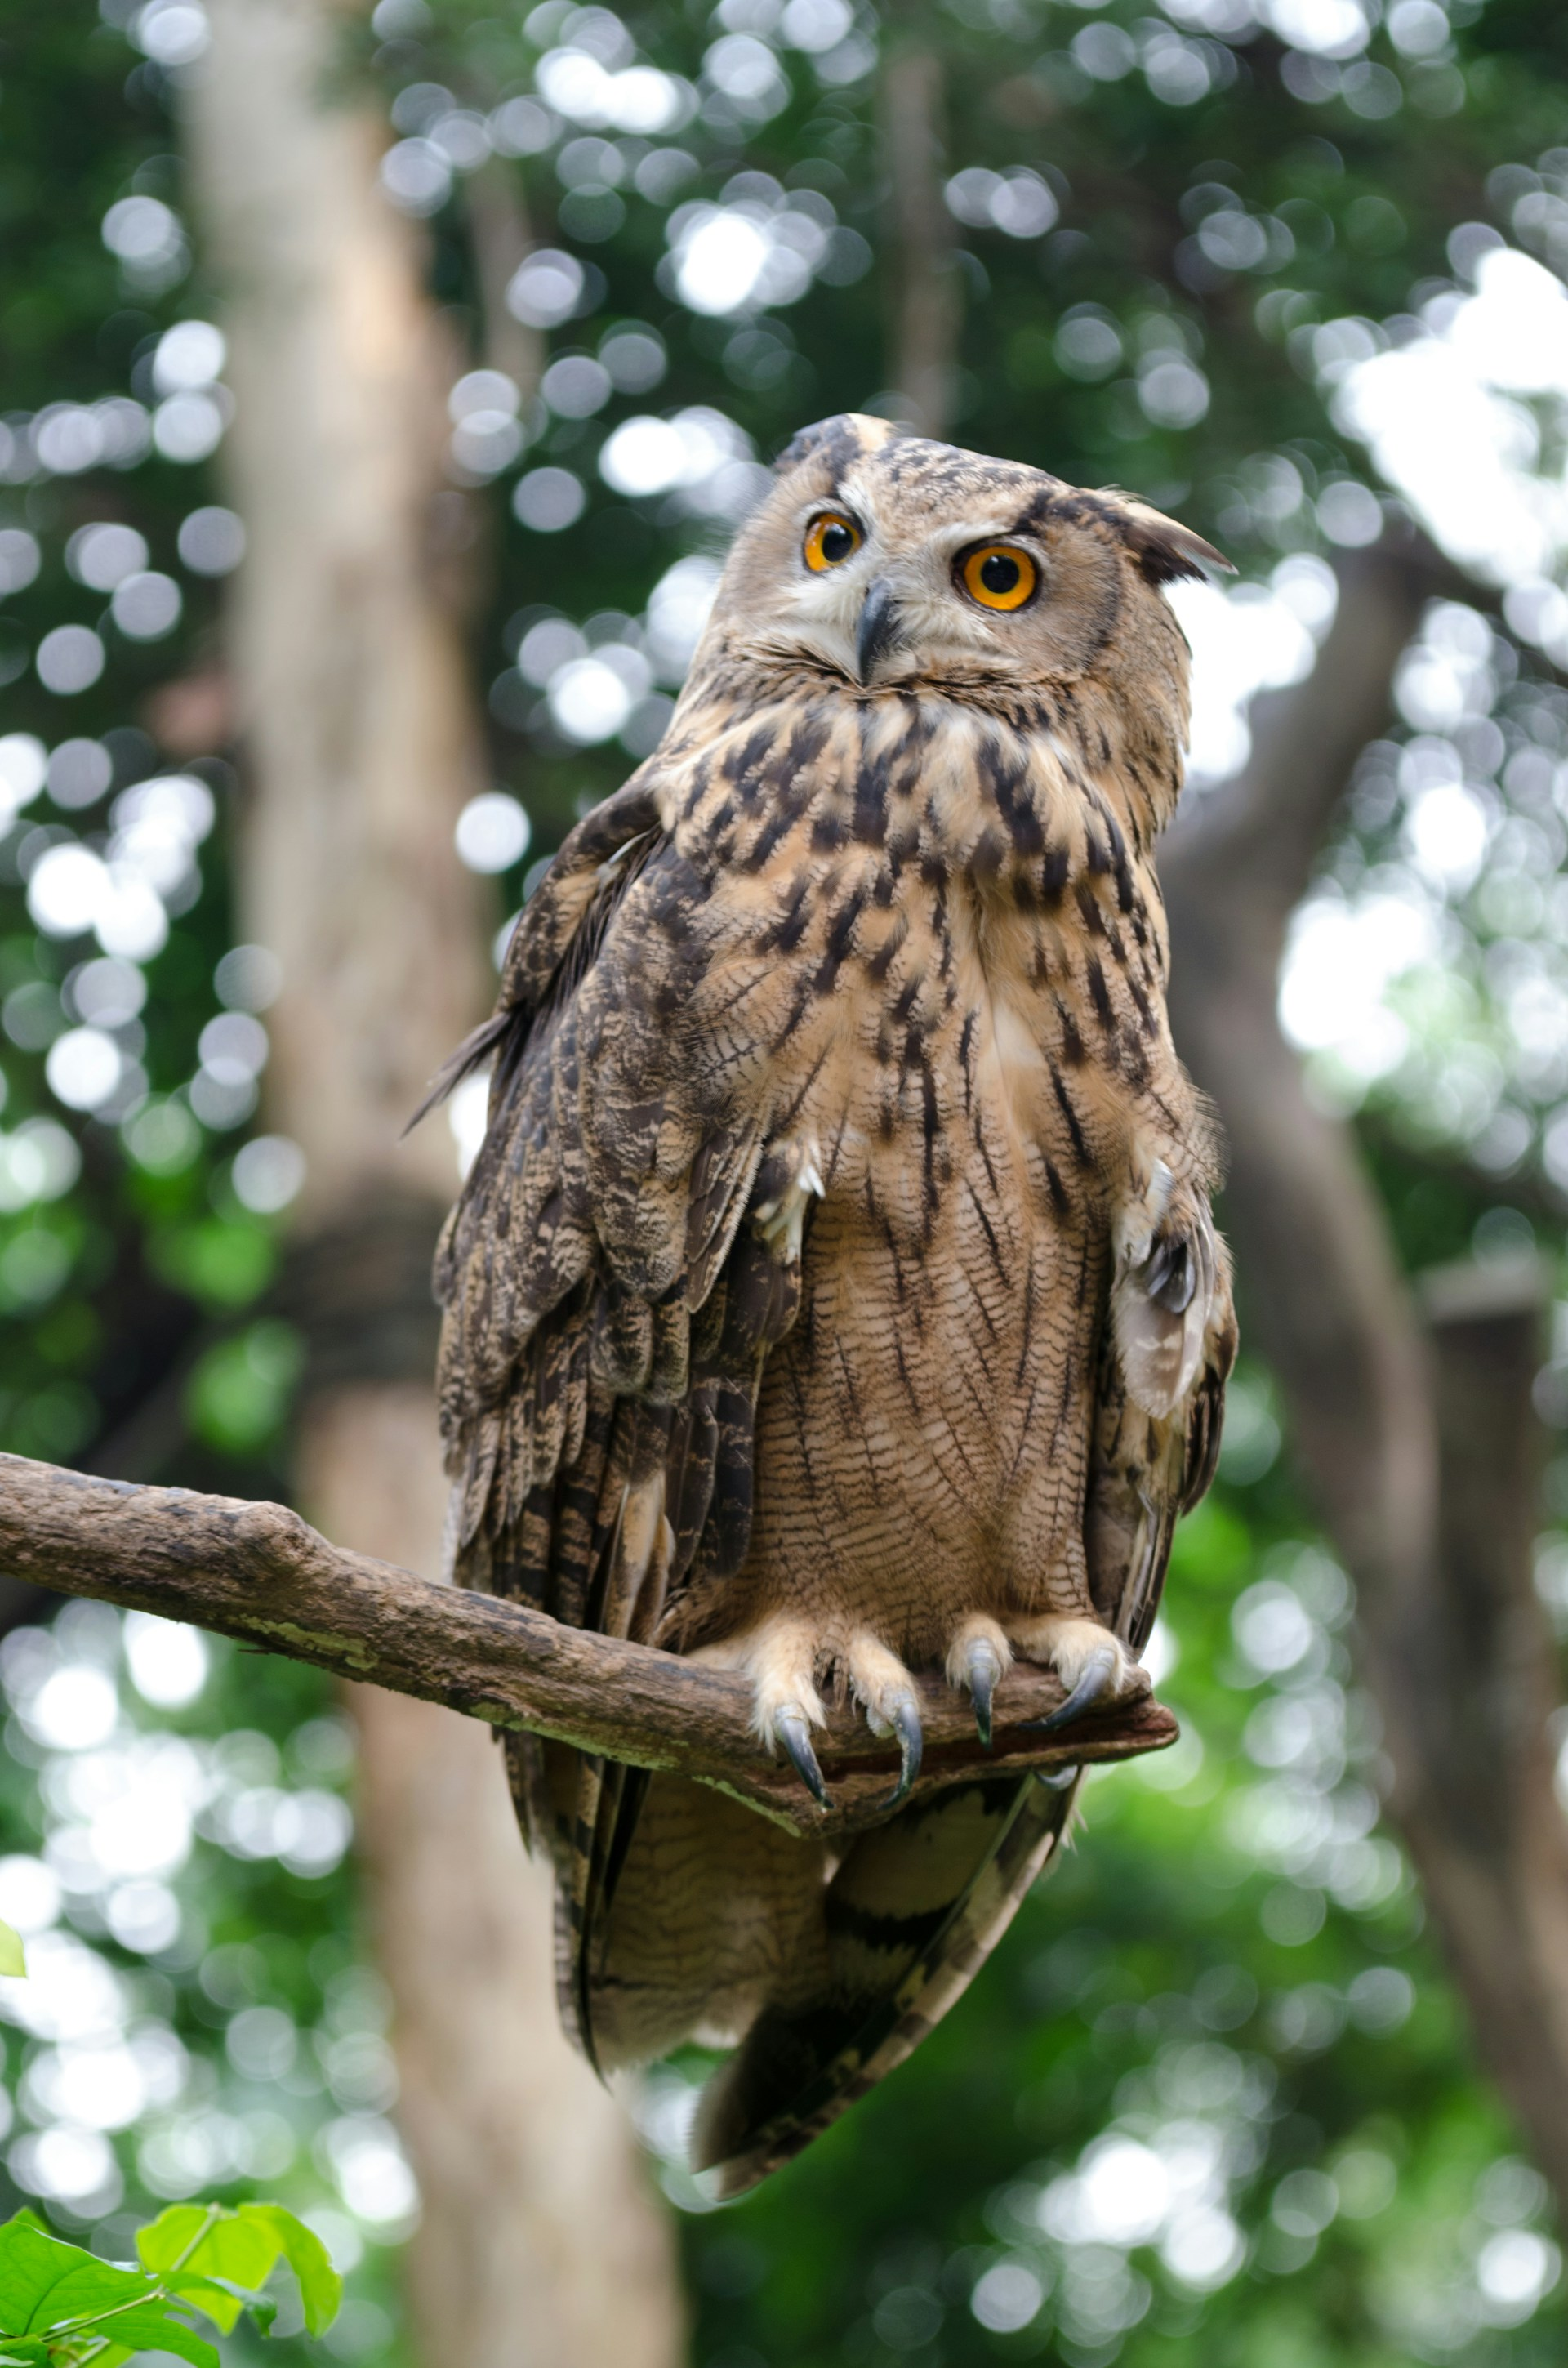owl: (409, 404, 1237, 2189)
